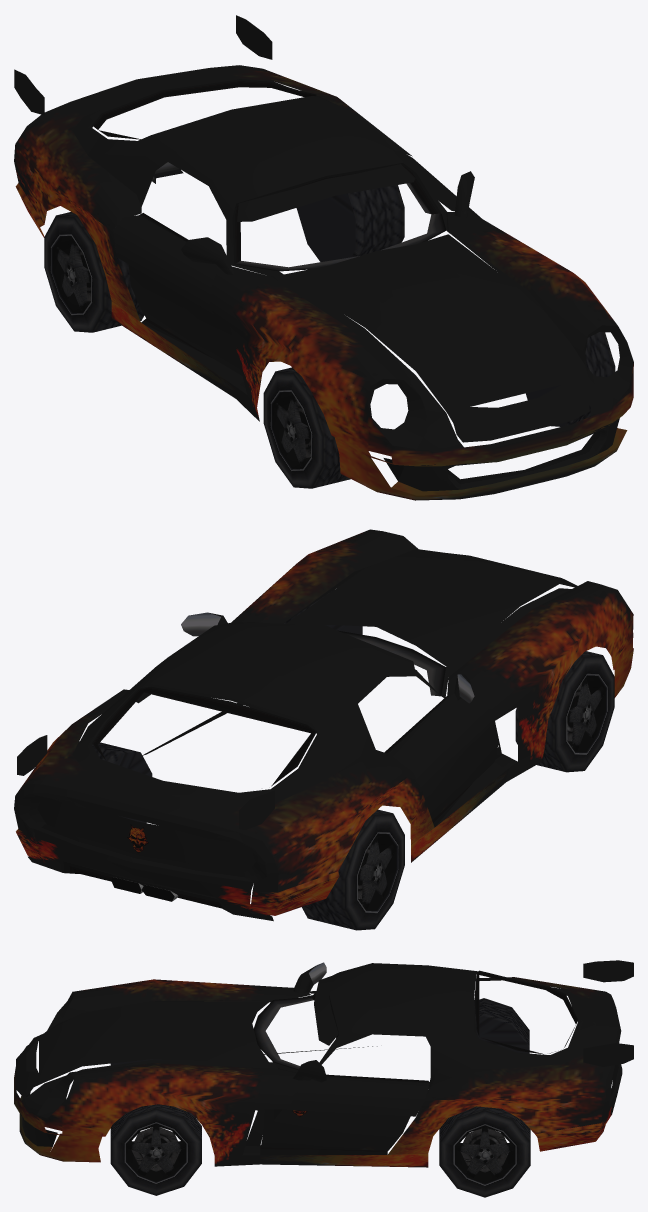
The model's file is car-MSCL_Car10.glb.
3 views of the same model, one above another, from view 1: azimuth 30°, elevation 25°; view 2: azimuth 150°, elevation 25°; view 3: azimuth 270°, elevation 25° (orthographic). The views are drawn at different scales.
Visible parts, largest first — view 1: MSCL_Car10; view 2: MSCL_Car10; view 3: MSCL_Car10.
Part boxes in pixels (<box>): MSCL_Car10: <box>14,15,633,500</box>; MSCL_Car10: <box>14,529,633,930</box>; MSCL_Car10: <box>14,960,633,1197</box>.
Size of the model in its own units: 1.95 by 1.23 by 4.47.
19 materials, 19 textured.
